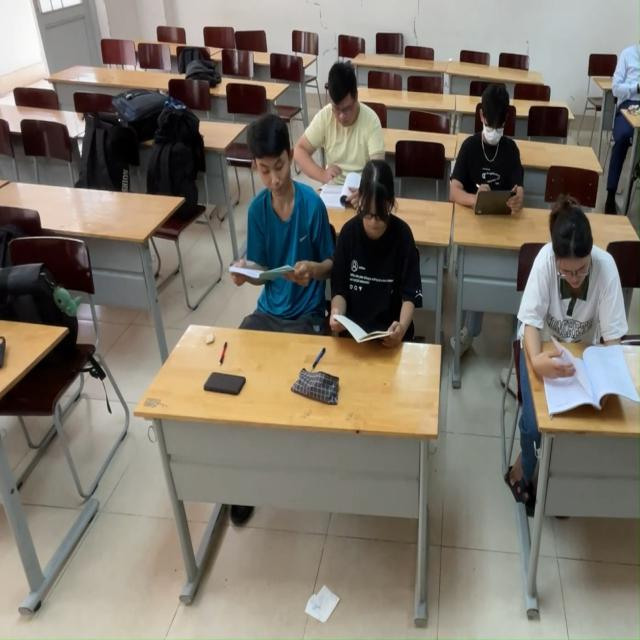read: (514, 194, 640, 422), (330, 180, 419, 356), (241, 120, 310, 338), (295, 67, 388, 194), (455, 84, 528, 226)
